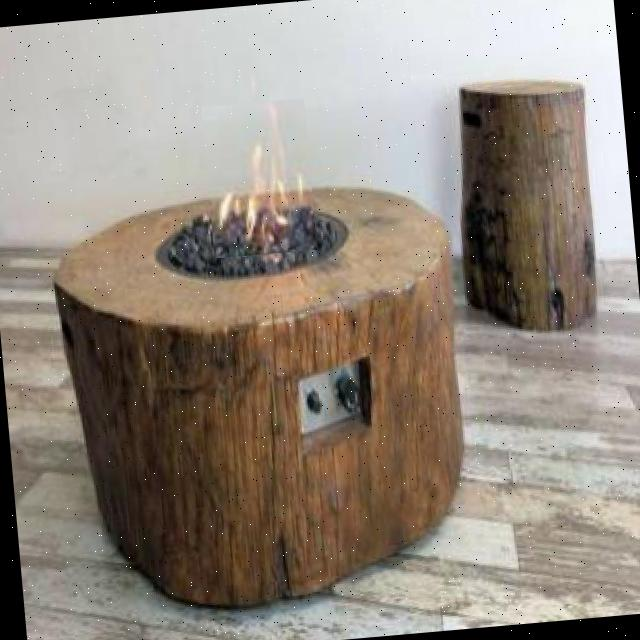fire: (201, 98, 317, 258)
